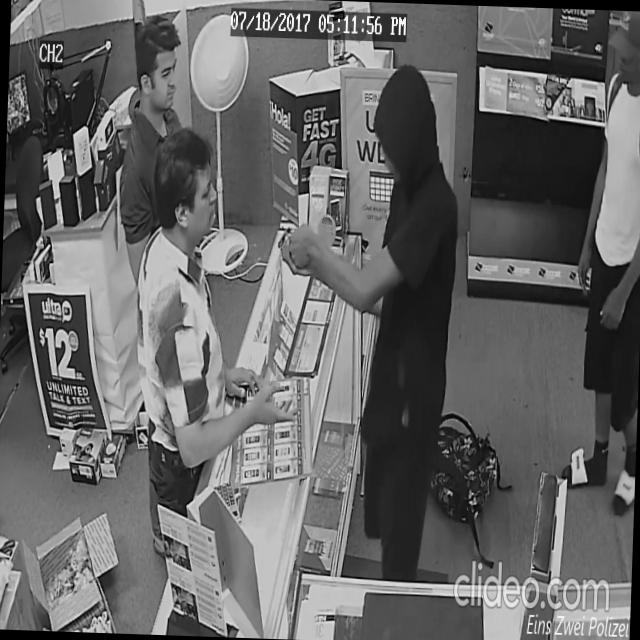gun: (276, 219, 296, 250)
person: (128, 125, 309, 552), (557, 9, 640, 519), (114, 12, 198, 322)
person with a gun: (266, 58, 467, 577)
